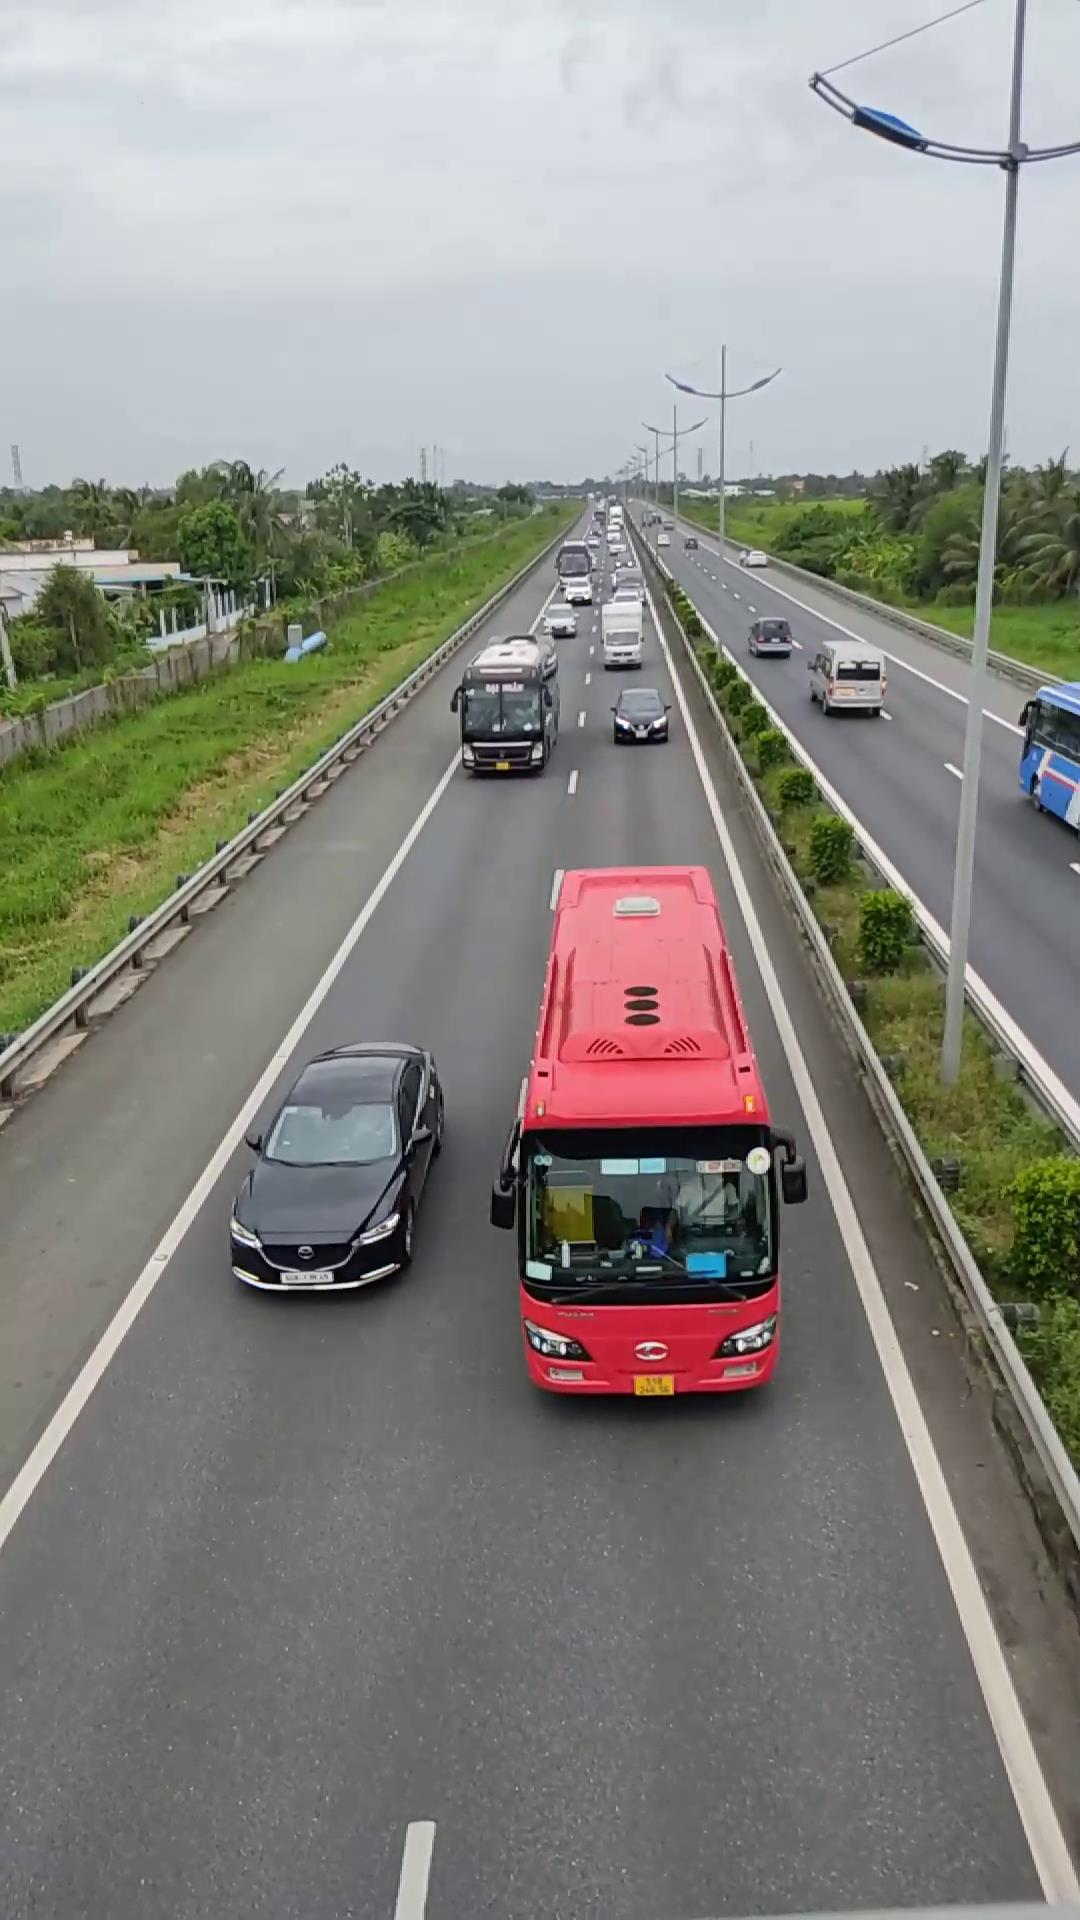car: (498, 860, 800, 1396), (219, 1046, 439, 1295), (804, 636, 887, 715)
truck: (458, 637, 559, 774), (1018, 680, 1080, 847)
